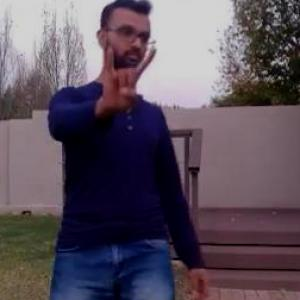takeoff-hand: (93, 34, 161, 118)
